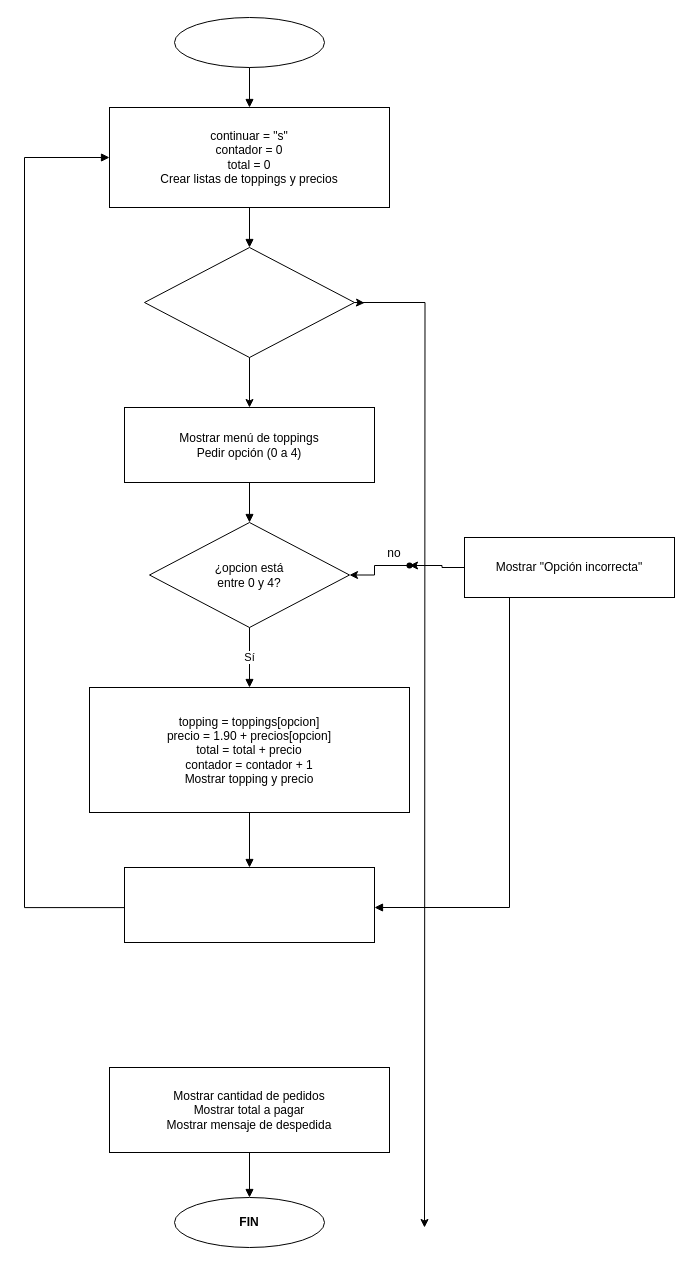
Some shapes in this 692 by 1265 pixel diagram are drawn without their labels. Each missing label, with the centre of its shape:
INICIO: (x=249, y=42)
¿continuar = "s" o continuar = "S"?: (x=249, y=302)
¿Desea hacer otro pedido? Leer continuar (s/n): (x=249, y=904)
